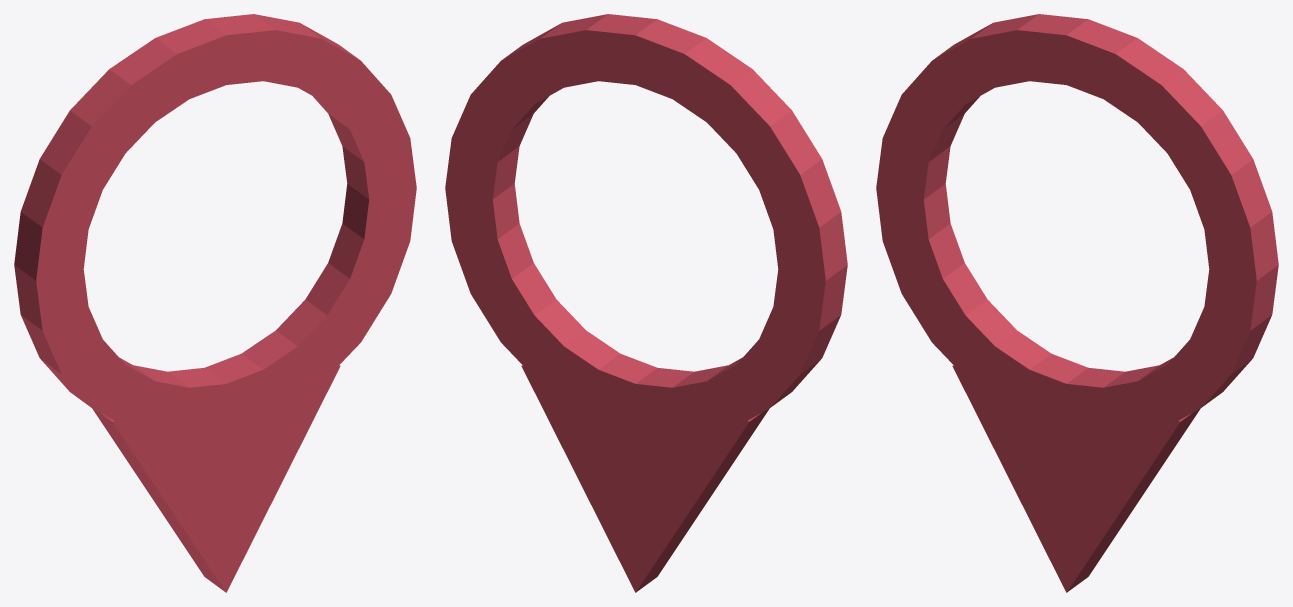
Rendered from store.glb.
The picture shows the model from 3 angles, left to right: view 1: azimuth 30°, elevation 25°; view 2: azimuth 150°, elevation 25°; view 3: azimuth 330°, elevation 25°; orthographic projection.
Visible parts, largest first — view 1: Mesh_Mesh_head_geo.001_lambert2SG.001; view 2: Mesh_Mesh_head_geo.001_lambert2SG.001; view 3: Mesh_Mesh_head_geo.001_lambert2SG.001.
Part boxes in pixels (left/top/right/bottom): Mesh_Mesh_head_geo.001_lambert2SG.001: left=14, top=14, right=416, bottom=592; Mesh_Mesh_head_geo.001_lambert2SG.001: left=445, top=14, right=847, bottom=592; Mesh_Mesh_head_geo.001_lambert2SG.001: left=876, top=14, right=1278, bottom=592.
Size of the model in its own units: 20 by 28 by 2.
